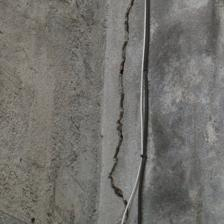Crack: (52, 2, 87, 220)
